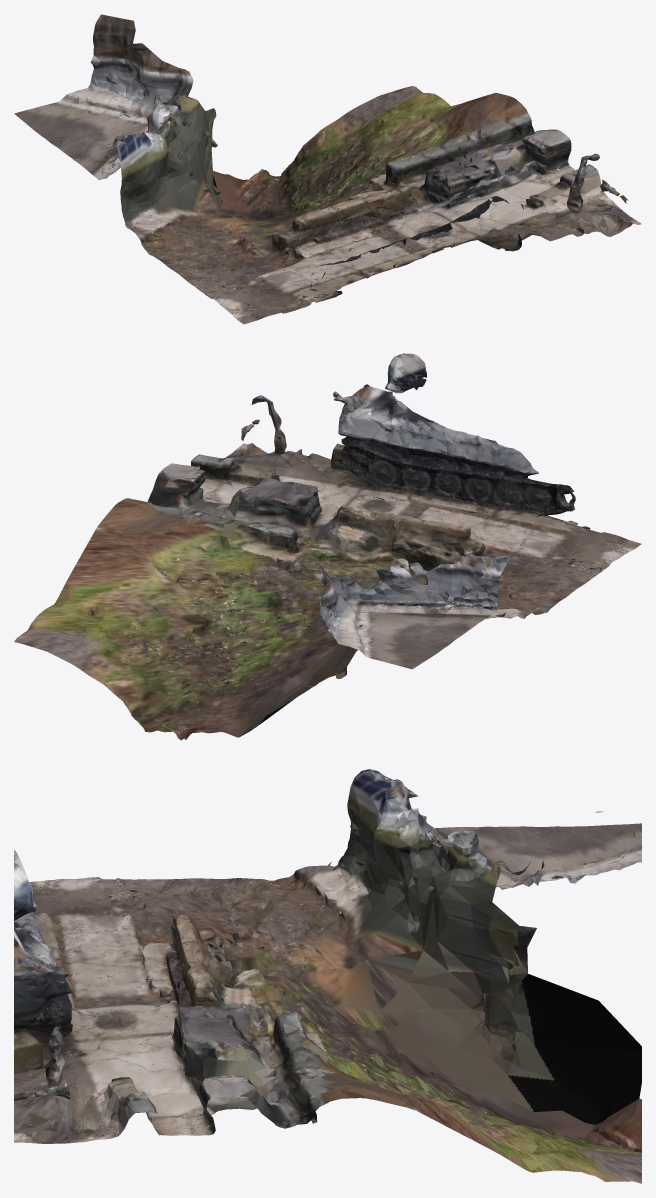
The picture shows the model from 3 angles, top to bottom: view 1: azimuth 30°, elevation 25°; view 2: azimuth 150°, elevation 25°; view 3: azimuth 270°, elevation 25°; orthographic projection. The views are drawn at different scales.
Size of the model in its own units: 10.44 by 5.51 by 10.44.
Materials: 4 (4 with a texture image).
